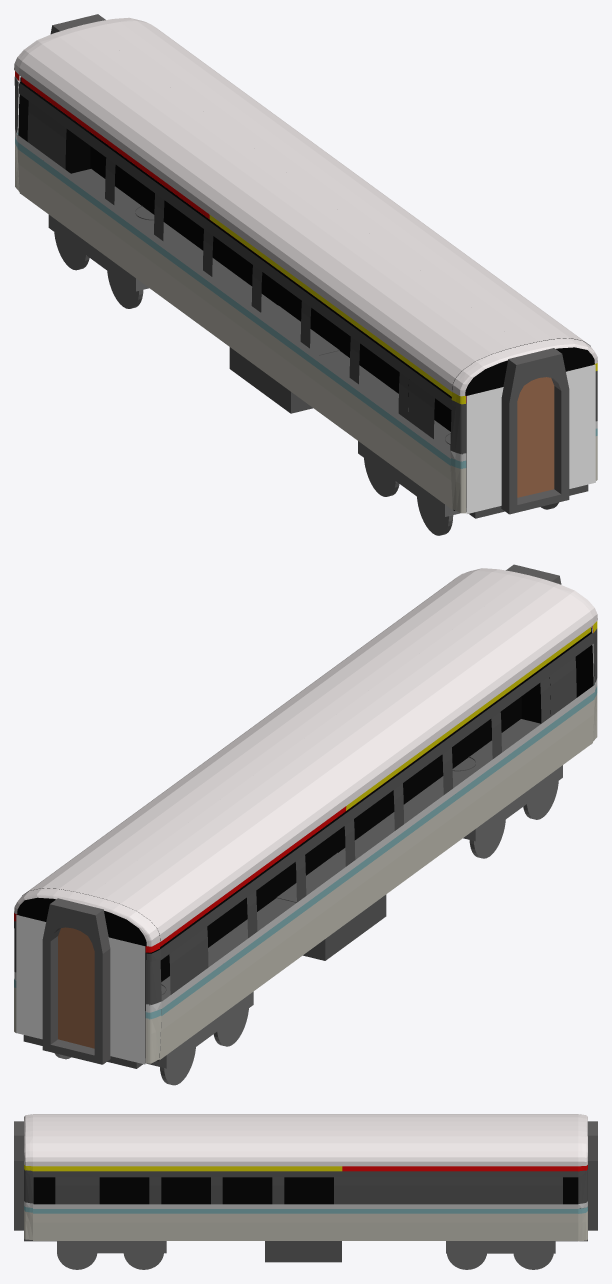
The model's file is br-mk2-rfb-scr.dae.
3 views of the same model, one above another, from view 1: azimuth 30°, elevation 25°; view 2: azimuth 150°, elevation 25°; view 3: azimuth 270°, elevation 25° (orthographic). The views are drawn at different scales.
Visible parts, largest first — view 1: Suzanne_001, Plane_031, Plane_100, Plane_009, Tube_002, Plane_088, Plane_002, Plane_012, Plane_029, Plane_030, Suzanne, Cube (+11 smaller); view 2: Suzanne_001, Plane_031, Plane_001, Plane_009, Tube_003, Plane_088, Plane_002, Plane_013, Plane_029, Plane_030, Suzanne_006, Cube (+11 smaller); view 3: Suzanne_001, Plane_007, Plane_009, Plane_020, Plane_004, Plane_006, Plane_022, Plane_005, Cube, Cube_042, Cube_002, Tube_003 (+14 smaller).
Boxes of the visible parts, <box> form: Suzanne_001: <box>19,21,590,391</box>; Plane_031: <box>18,149,452,509</box>; Plane_100: <box>466,364,595,513</box>; Plane_009: <box>90,132,451,431</box>; Tube_002: <box>501,348,569,514</box>; Plane_088: <box>19,82,451,409</box>; Plane_002: <box>71,169,450,450</box>; Plane_012: <box>517,377,554,497</box>; Plane_029: <box>17,135,450,458</box>; Plane_030: <box>17,142,450,465</box>; Suzanne: <box>452,338,597,396</box>; Cube: <box>229,305,339,413</box>; Suzanne_001: <box>22,571,593,941</box>; Plane_031: <box>159,699,594,1059</box>; Plane_001: <box>16,915,145,1064</box>; Plane_009: <box>158,683,521,981</box>; Tube_003: <box>42,898,110,1064</box>; Plane_088: <box>160,633,593,959</box>; Plane_002: <box>159,719,540,1057</box>; Plane_013: <box>58,927,94,1048</box>; Plane_029: <box>161,685,594,1008</box>; Plane_030: <box>161,692,594,1015</box>; Suzanne_006: <box>14,888,160,946</box>; Cube: <box>276,852,386,960</box>; Suzanne_001: <box>33,1114,578,1166</box>; Plane_007: <box>33,1213,578,1240</box>; Plane_009: <box>33,1177,580,1208</box>; Plane_020: <box>334,1177,562,1204</box>; Plane_004: <box>33,1171,578,1177</box>; Plane_006: <box>33,1166,578,1171</box>; Plane_022: <box>33,1204,578,1208</box>; Plane_005: <box>33,1209,578,1213</box>; Cube: <box>265,1241,341,1262</box>; Cube_042: <box>57,1241,166,1253</box>; Cube_002: <box>446,1241,555,1253</box>; Tube_003: <box>587,1121,597,1230</box>.
Size of the model in its own units: 2.06 by 11.39 by 2.72.
